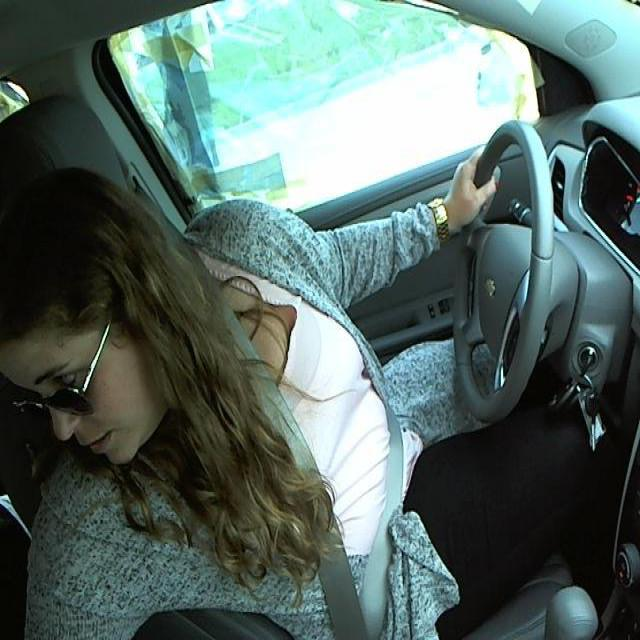seatbelt: (214, 331, 417, 637)
